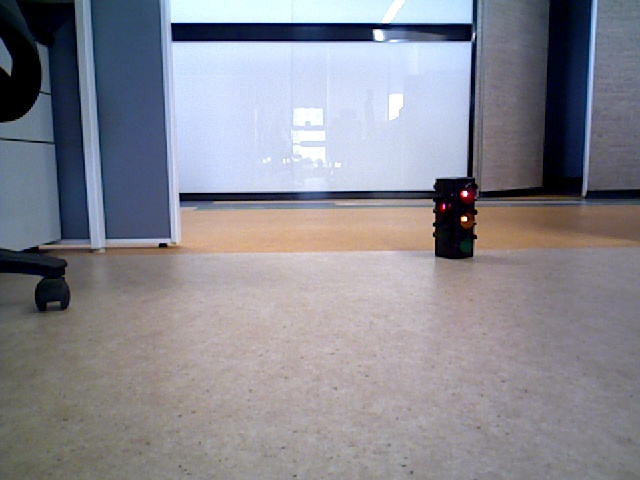red: (434, 177, 472, 255)
